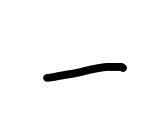minus: (43, 63, 127, 82)
